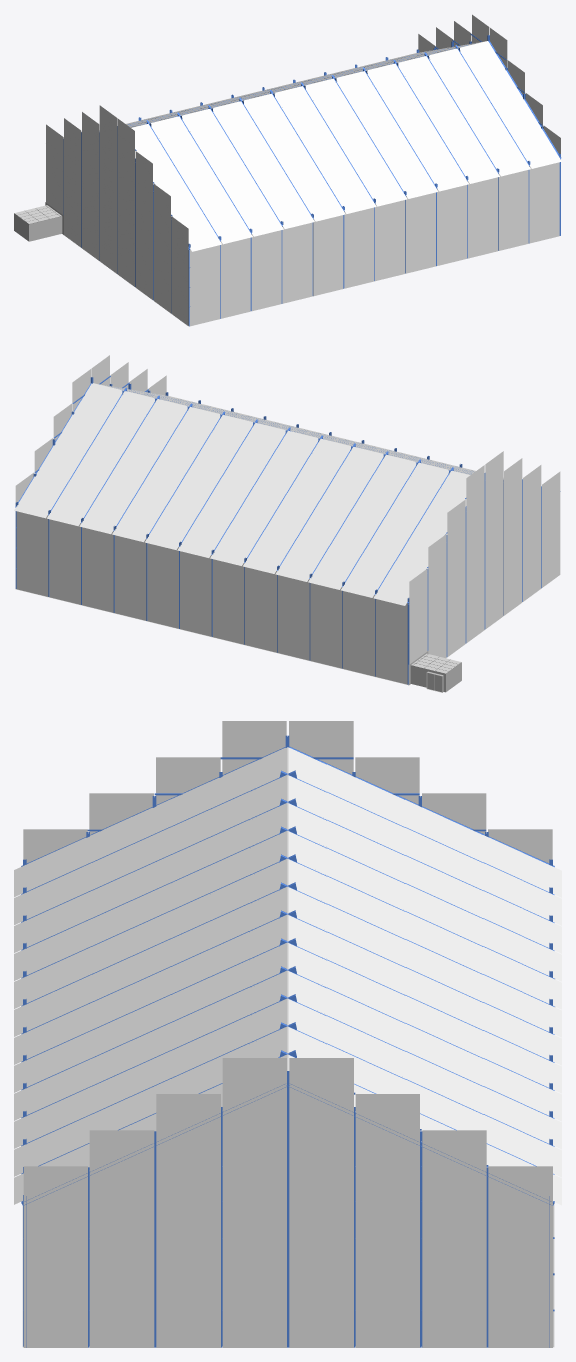
Rendered from warehouse.fbx.
3 views of the same model, one above another, from view 1: azimuth 30°, elevation 25°; view 2: azimuth 150°, elevation 25°; view 3: azimuth 270°, elevation 25° (orthographic). The views are drawn at different scales.
Visible parts, largest first — view 1: RoofLeft, WallLeft, FrontWall, BackWall, RoofRight, Cube; view 2: RoofRight, WallRight, FrontWall, BackWall, RoofLeft, Cube; view 3: BackWall, RoofLeft, RoofRight, FrontWall.
Boxes of the visible parts, left/top/right/bottom form: RoofLeft: left=131, top=41, right=561, bottom=251; WallLeft: left=189, top=161, right=559, bottom=326; FrontWall: left=46, top=105, right=190, bottom=326; BackWall: left=416, top=14, right=561, bottom=235; RoofRight: left=99, top=41, right=484, bottom=131; Cube: left=14, top=202, right=63, bottom=241; RoofRight: left=14, top=383, right=470, bottom=605; WallRight: left=16, top=510, right=407, bottom=684; FrontWall: left=407, top=451, right=560, bottom=684; BackWall: left=15, top=355, right=168, bottom=588; RoofLeft: left=96, top=383, right=503, bottom=479; Cube: left=408, top=651, right=461, bottom=692; BackWall: left=21, top=1058, right=554, bottom=1347; RoofLeft: left=14, top=747, right=296, bottom=1204; RoofRight: left=279, top=747, right=561, bottom=1205; FrontWall: left=21, top=721, right=554, bottom=867.
Size of the model in its own units: 6536 by 2407 by 4123.
